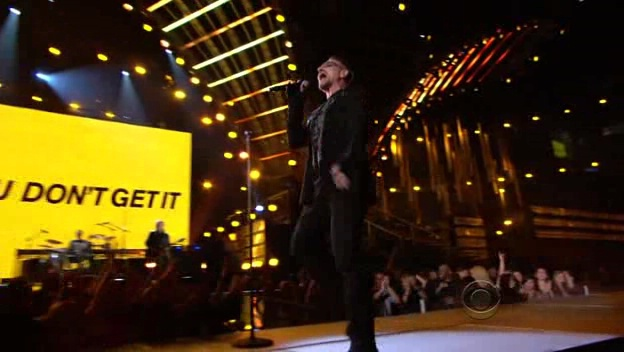person: (297, 58, 373, 231), (294, 58, 370, 231), (300, 58, 376, 231), (297, 55, 373, 228), (297, 61, 373, 234)
target_negative: (72, 28, 490, 301), (215, 62, 286, 320), (464, 66, 502, 227), (480, 346, 612, 351), (603, 179, 611, 242), (600, 128, 603, 231)
